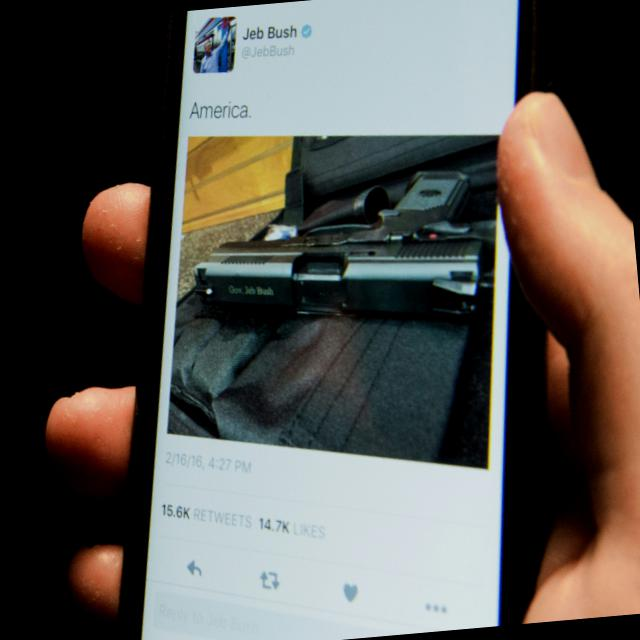handgun: (201, 163, 490, 358)
